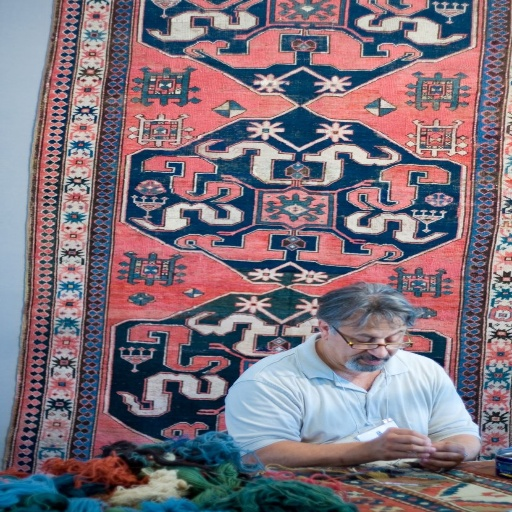hand: (368, 427, 452, 462), (428, 434, 479, 467)
